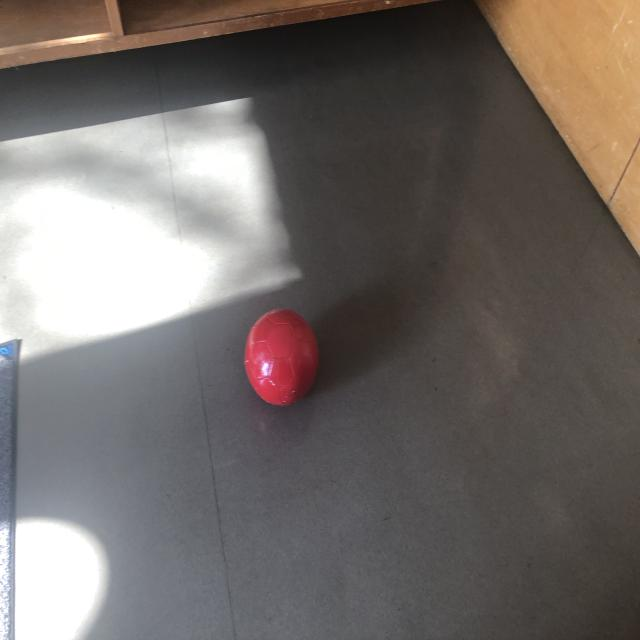red_ball: (243, 306, 321, 406)
